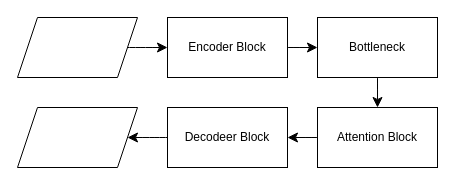
This 455x185 diagram has some shape labels left out. The shapes that lost their labels are listed below. From the top down, each one's centre as x and y in pixels, then its label:
At (x=77, y=47): "Convolution Block".
At (x=77, y=137): "Arsitektur Attention U-Net".
